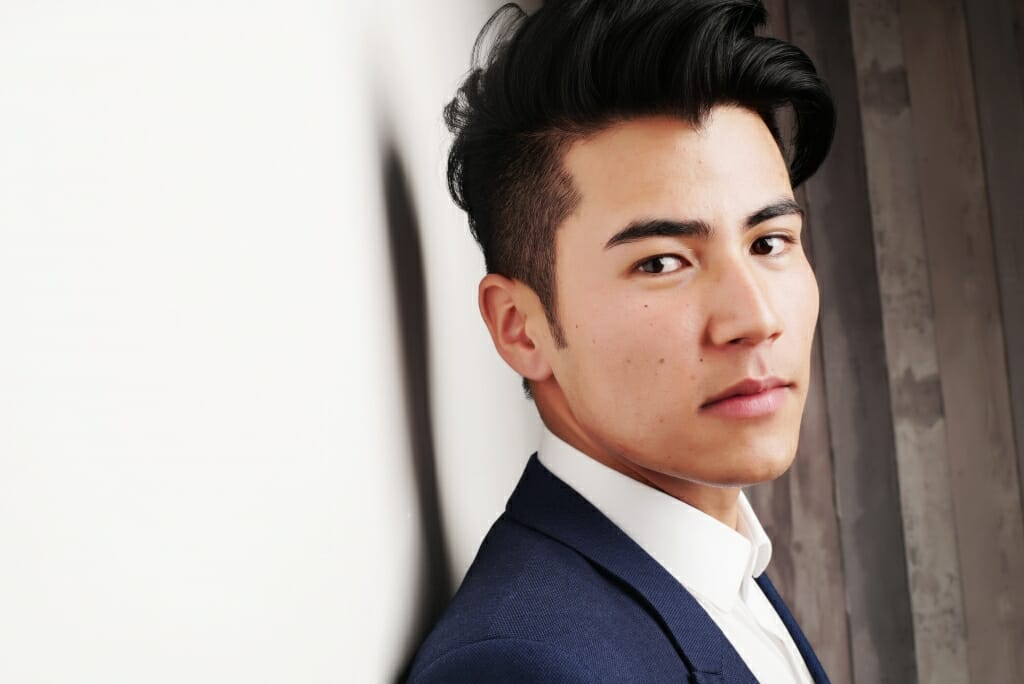bare: (545, 296, 814, 479)
